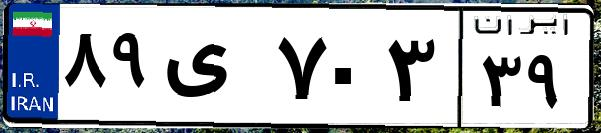0: (330, 28, 385, 110)
3: (385, 28, 445, 110), (475, 38, 525, 113)
7: (270, 28, 330, 110)
8: (57, 26, 110, 100)
9: (525, 38, 570, 115), (110, 28, 158, 98)
ی: (158, 20, 270, 120)
